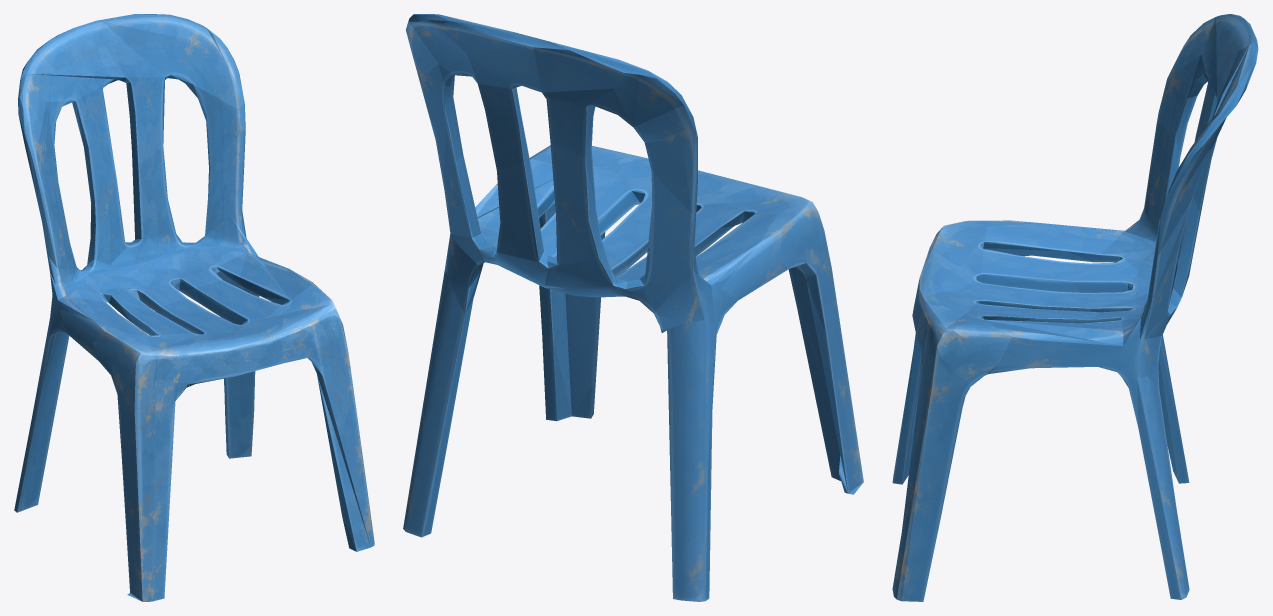
Rendered from blue_monobloc_chair_1k.glb.
3 views of the same model, side by side, from view 1: azimuth 30°, elevation 25°; view 2: azimuth 150°, elevation 25°; view 3: azimuth 270°, elevation 25° (orthographic). The views are drawn at different scales.
Parts seen in each view (by area): view 1: output_unwrapped; view 2: output_unwrapped; view 3: output_unwrapped.
Part boxes in pixels (x1,y1,x2,y2): output_unwrapped: (14, 14, 374, 601); output_unwrapped: (403, 14, 863, 601); output_unwrapped: (892, 14, 1258, 601).
Size of the model in its own units: 1.09 by 1.9 by 1.28.
1 material, 1 textured.
